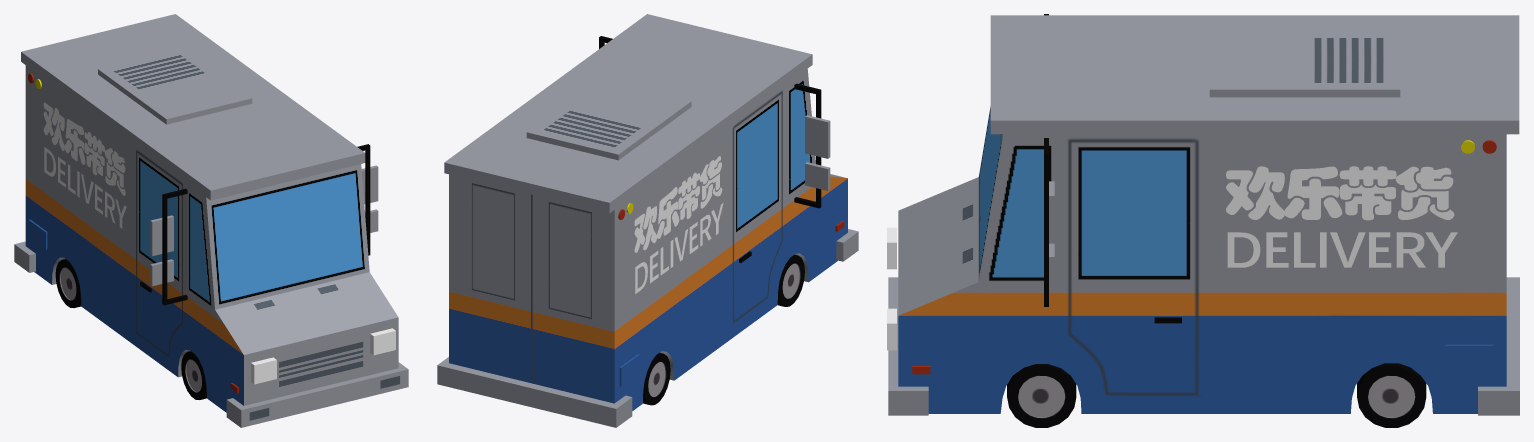
File: KaChe1_daiji.fbx
3 renders of one model, left to right at view 1: azimuth 30°, elevation 25°; view 2: azimuth 150°, elevation 25°; view 3: azimuth 270°, elevation 25°, orthographic. The views are drawn at different scales.
Parts seen in each view (by area): view 1: Box008, 对象001; view 2: Box008, 对象001; view 3: Box008, 对象001.
Boxes of the visible parts, <box> form: Box008: <box>14,14,408,427</box>; 对象001: <box>55,259,206,399</box>; Box008: <box>437,14,858,427</box>; 对象001: <box>643,254,804,405</box>; Box008: <box>887,14,1519,415</box>; 对象001: <box>1007,363,1426,427</box>.
Size of the model in its own units: 283 by 271 by 492.
